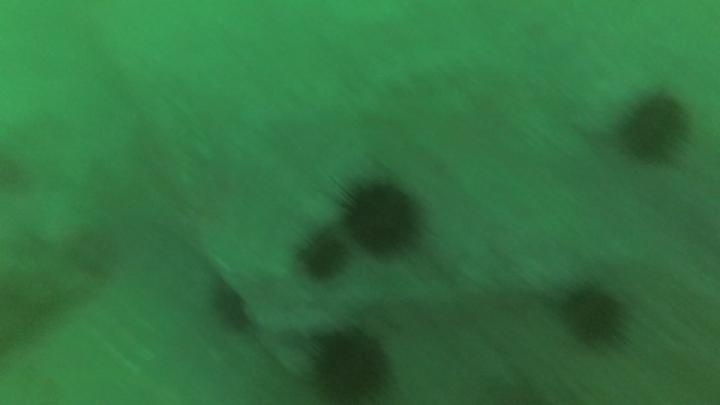echinus: (335, 173, 426, 258), (306, 323, 395, 404), (614, 87, 693, 166), (558, 279, 630, 349), (292, 224, 350, 283), (68, 225, 121, 281)
